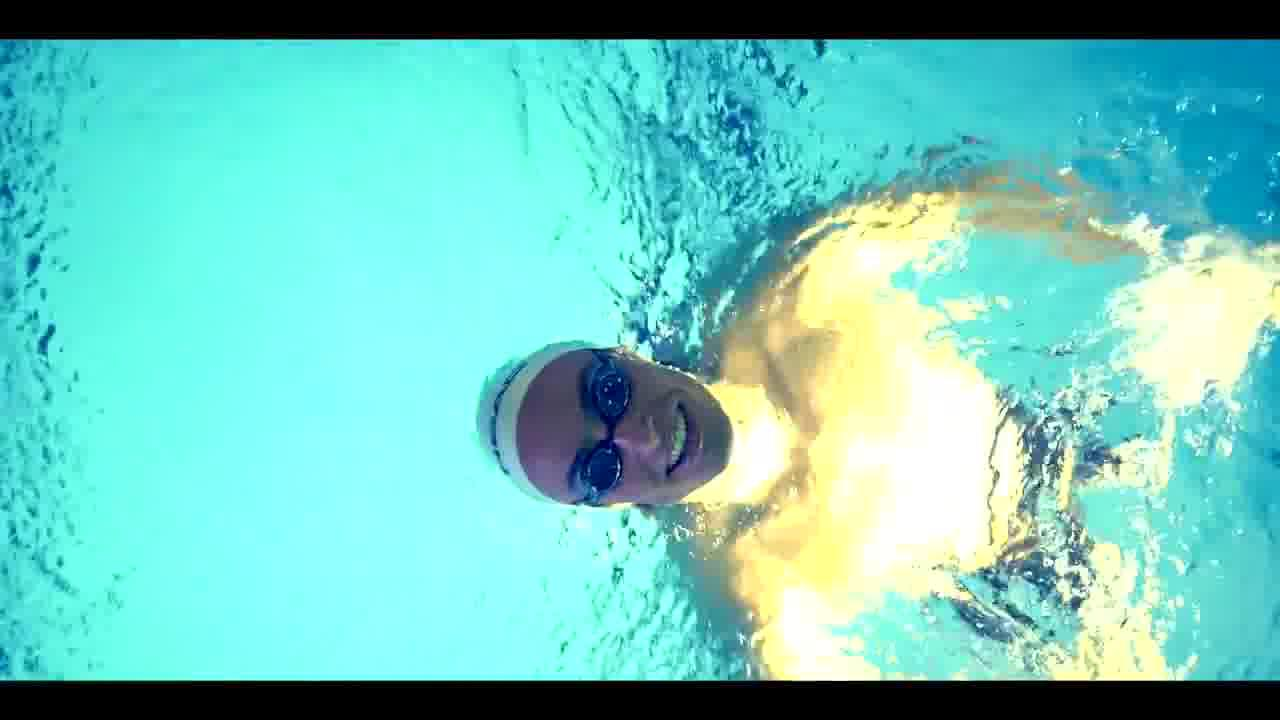swimmer: (467, 178, 1196, 678)
